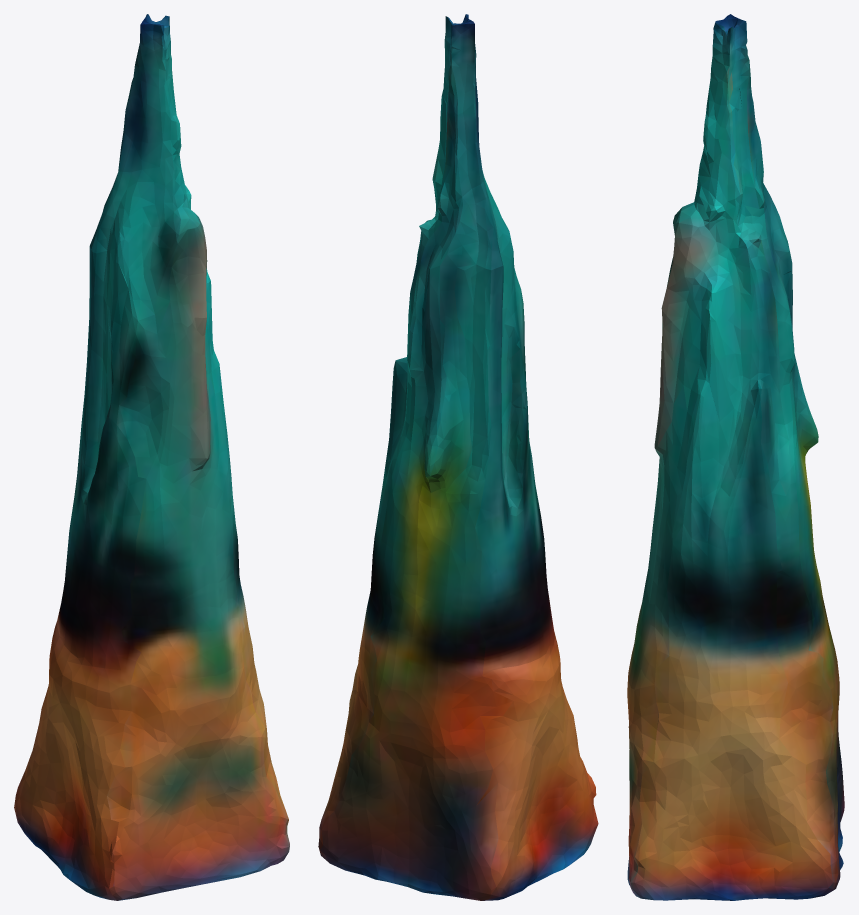
The picture shows the model from 3 angles, left to right: view 1: azimuth 30°, elevation 25°; view 2: azimuth 150°, elevation 25°; view 3: azimuth 270°, elevation 25°; orthographic projection.
Parts seen in each view (by area): view 1: world; view 2: world; view 3: world.
Boxes of the visible parts, x1,y1,x2,y2 form: world: [14, 14, 289, 900]; world: [318, 14, 598, 900]; world: [627, 14, 844, 900].
Bounding box in the file's own units: 0.1106 × 0.4592 × 0.1078.
Materials: 1 (1 with a texture image).
